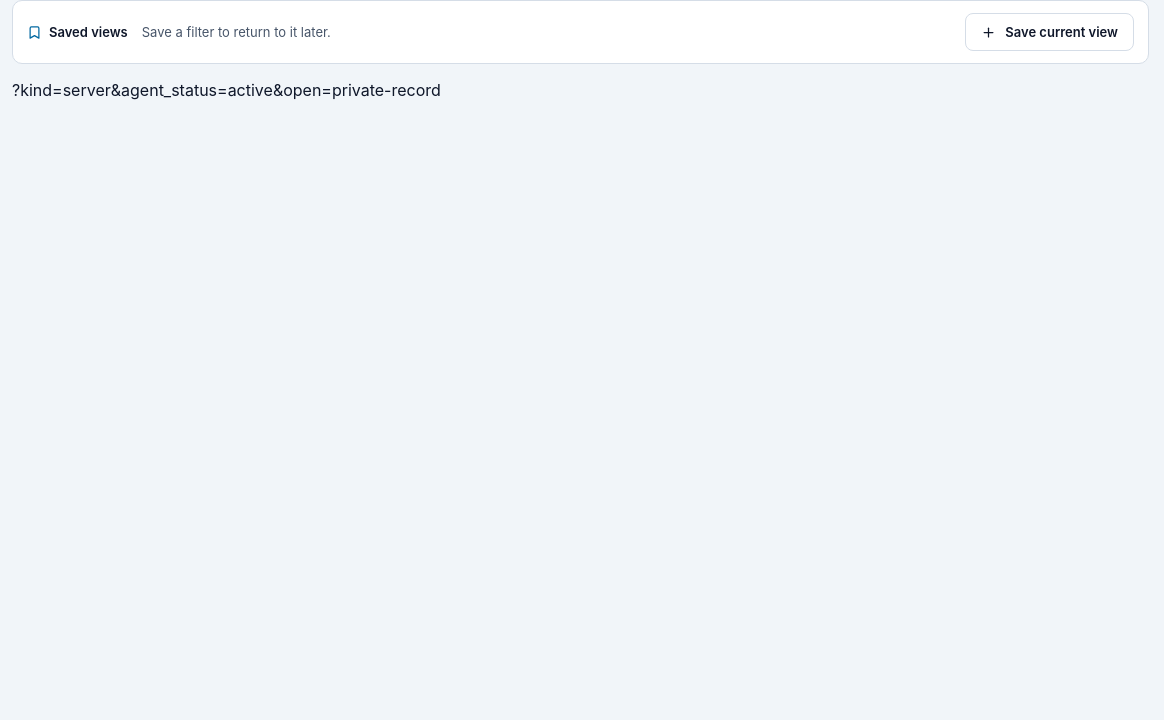
Scenario: saves asset filters without record IDs and restores a removed view without losing newer ones
Click the button "Save current view".
click(1050, 32)  # box [965, 13, 1134, 51]
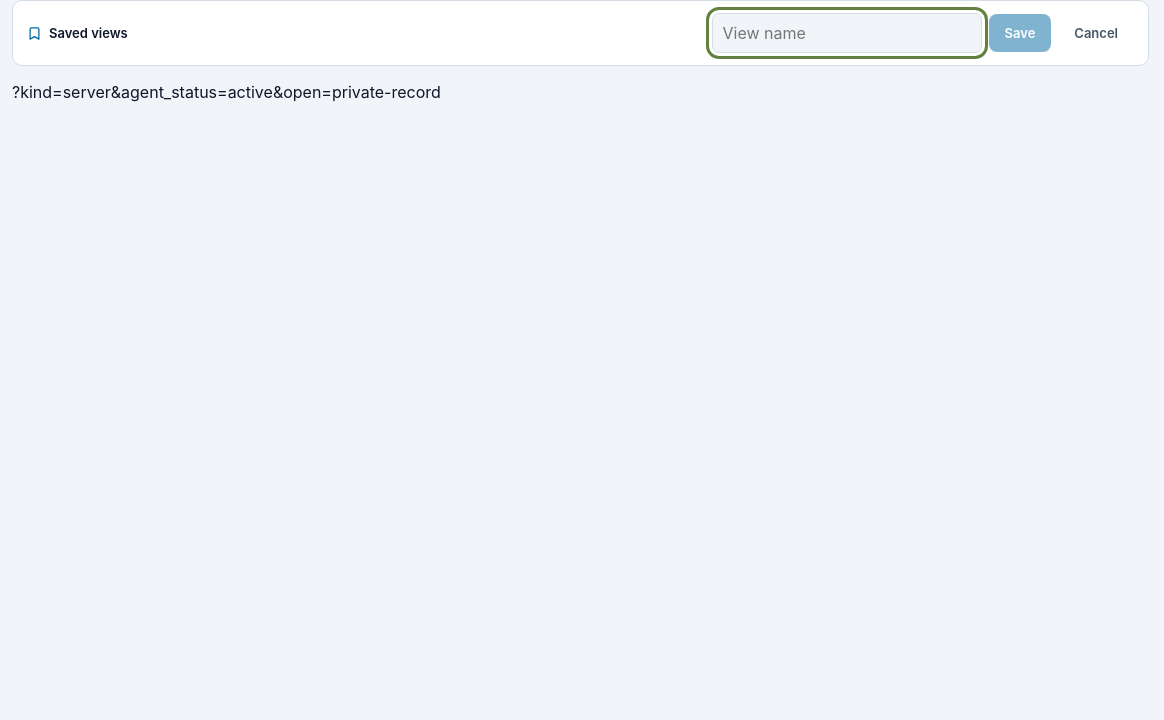
Type "Servers" into the field labelled "View name".
click(846, 33); type("Servers")  # box [712, 13, 982, 53]
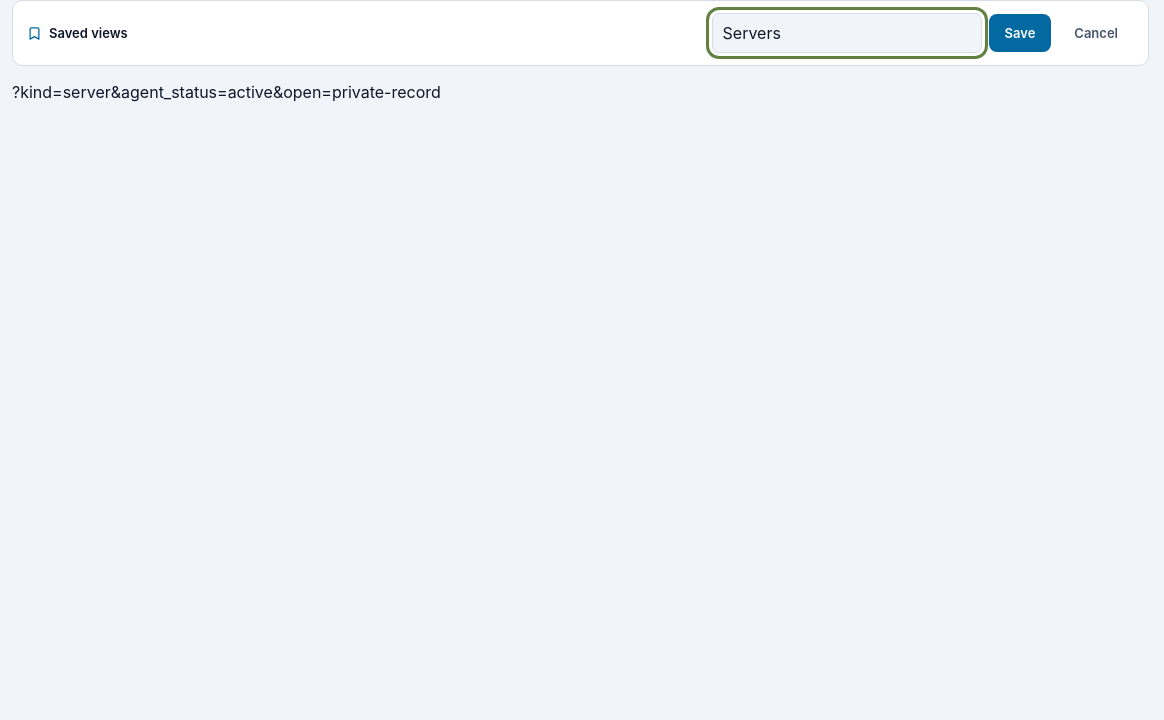
Click the button "Save".
click(1020, 33)  # box [988, 14, 1051, 52]
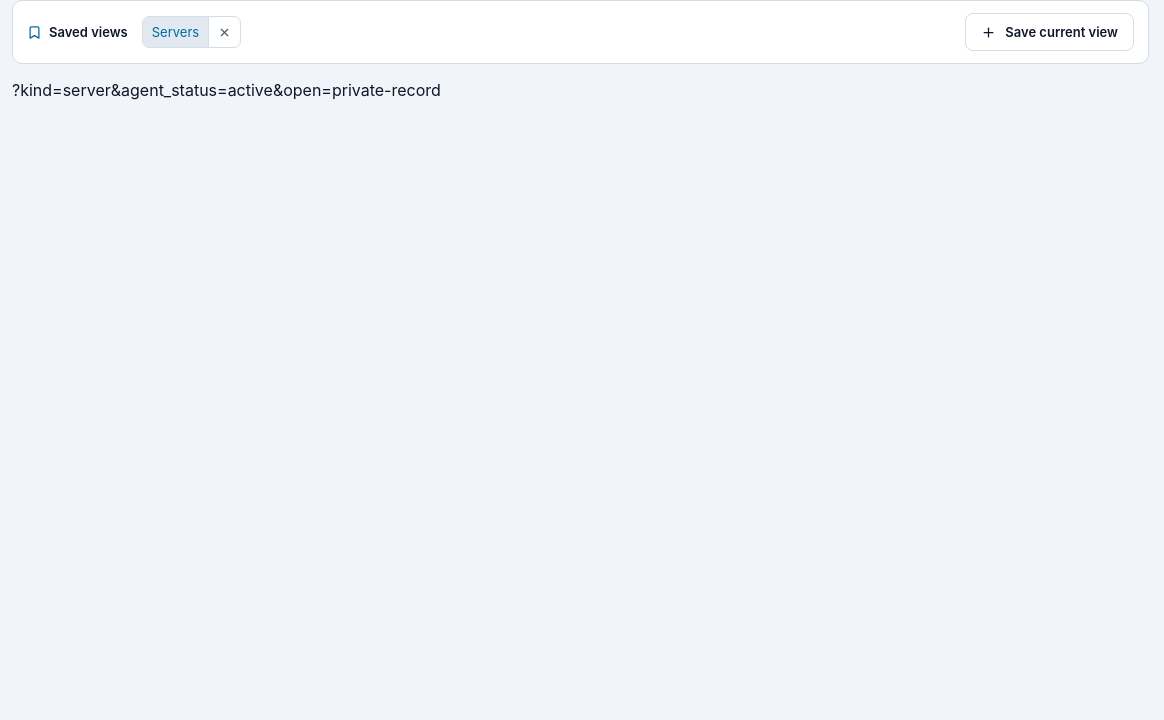
Click the button "Servers".
click(176, 32)  # box [143, 17, 208, 47]
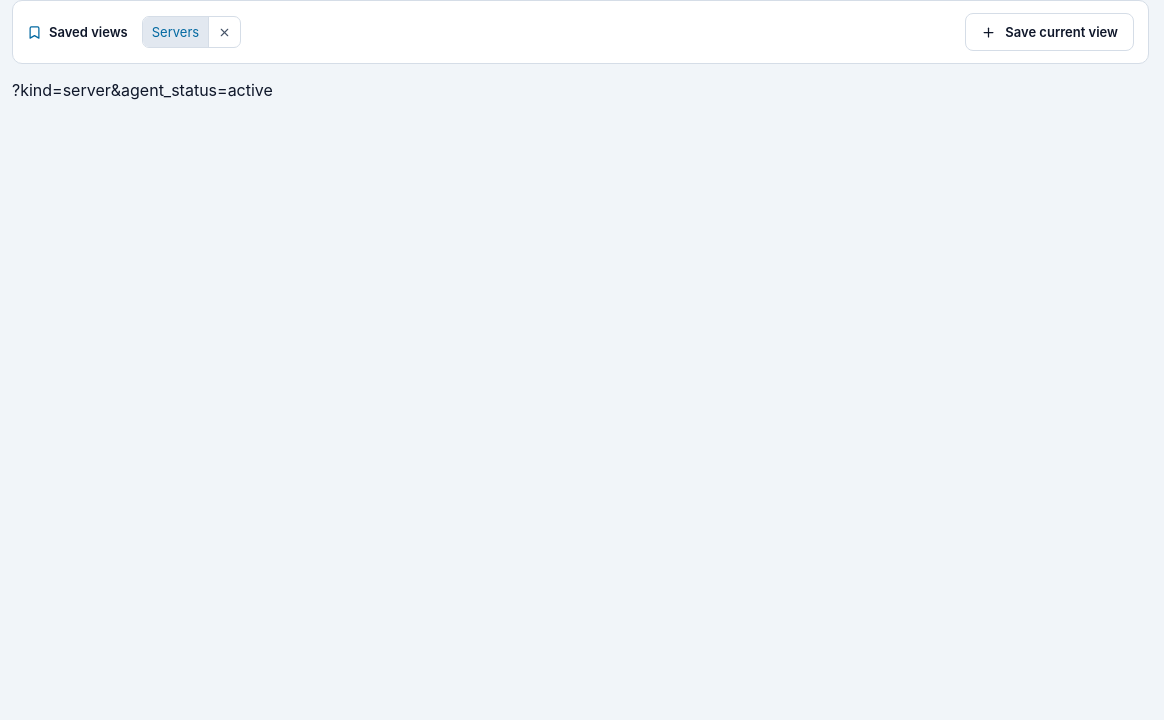
Now the text with test id "location" no longer shows "open="
Click the button named "Remove view Servers".
click(224, 32)  # box [208, 17, 240, 47]
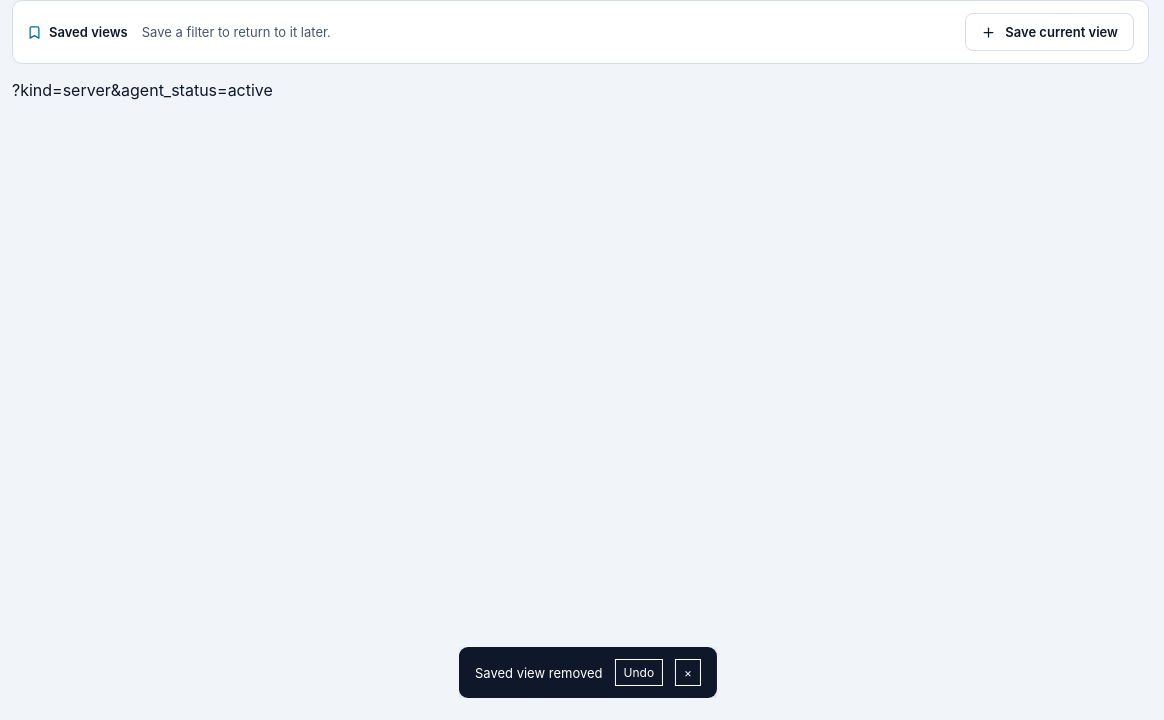
Click the button "Undo".
click(639, 672)  # box [614, 659, 663, 686]
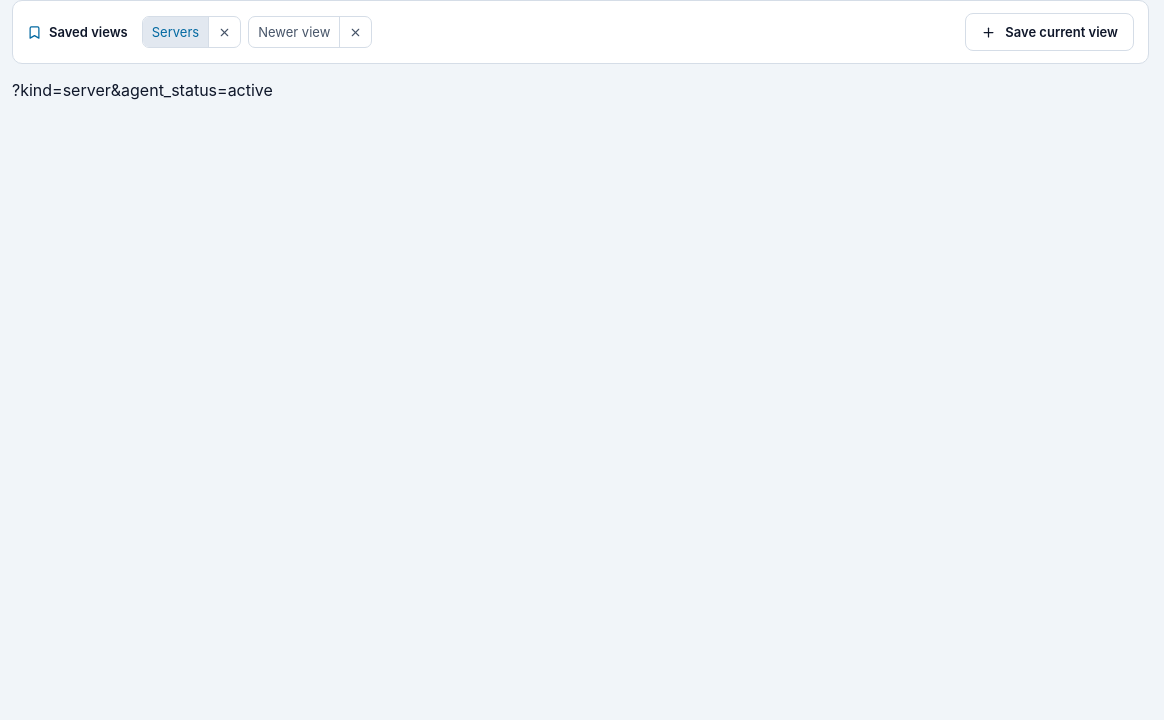
Now the button "Servers" is shown, box [143, 17, 208, 47]
